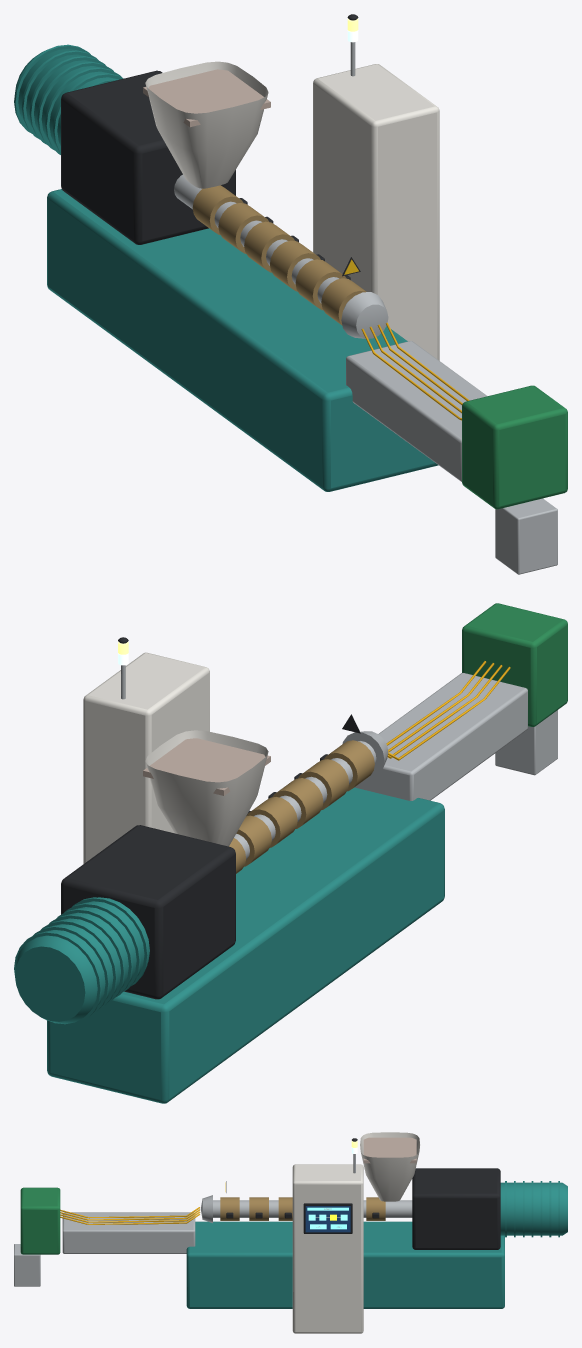
Rendered from extruder.fbx.
3 views of the same model, one above another, from view 1: azimuth 30°, elevation 25°; view 2: azimuth 150°, elevation 25°; view 3: azimuth 270°, elevation 25° (orthographic). The views are drawn at different scales.
Parts seen in each view (by area): view 1: extruder; view 2: extruder; view 3: extruder.
Part boxes in pixels (x1=…): extruder: x1=14, y1=14, x2=567, y2=574; extruder: x1=14, y1=603, x2=567, y2=1103; extruder: x1=14, y1=1132, x2=567, y2=1333.
Bounding box in the file's own units: 1.58 × 2.33 × 6.26.
